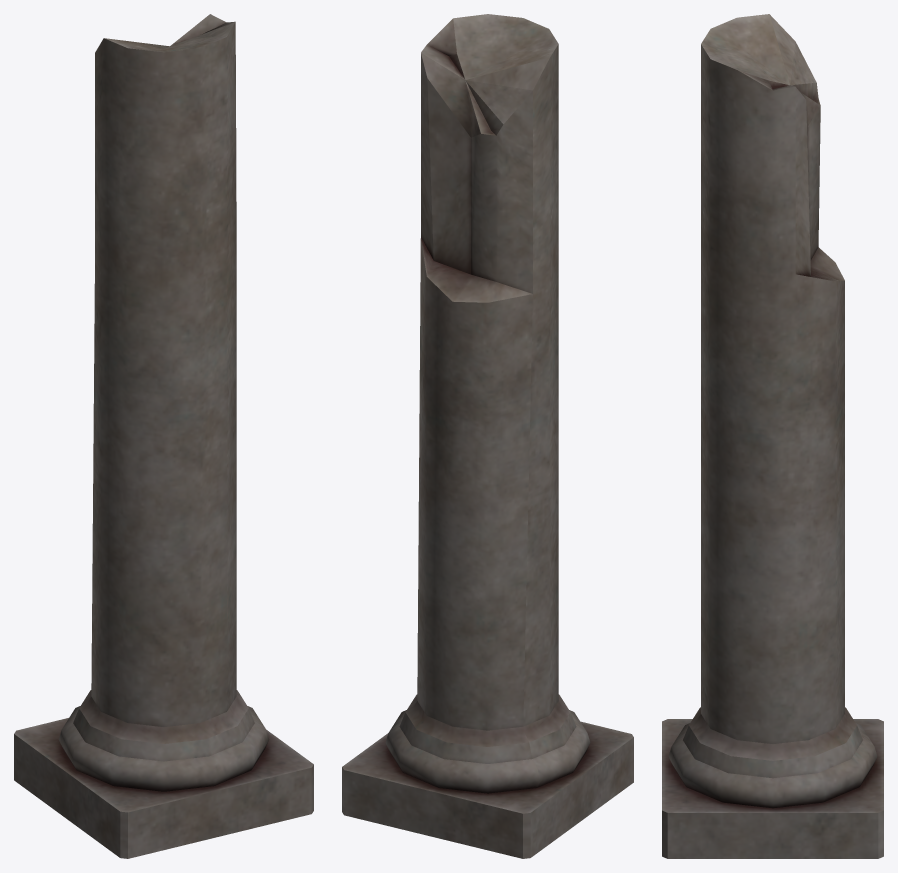
The model's file is sb_obj_outdoor009_AncientTemple_pillar02C.fbx.
The picture shows the model from 3 angles, left to right: view 1: azimuth 30°, elevation 25°; view 2: azimuth 150°, elevation 25°; view 3: azimuth 270°, elevation 25°; orthographic projection. The views are drawn at different scales.
Visible parts, largest first — view 1: sb_obj_outdoor009_AncientTemple_pillar02C; view 2: sb_obj_outdoor009_AncientTemple_pillar02C; view 3: sb_obj_outdoor009_AncientTemple_pillar02C.
Part boxes in pixels (x1=…): sb_obj_outdoor009_AncientTemple_pillar02C: x1=14, y1=14, x2=313, y2=858; sb_obj_outdoor009_AncientTemple_pillar02C: x1=342, y1=14, x2=633, y2=858; sb_obj_outdoor009_AncientTemple_pillar02C: x1=662, y1=14, x2=883, y2=858.
Bounding box in the file's own units: 1.31 × 5 × 1.31.
